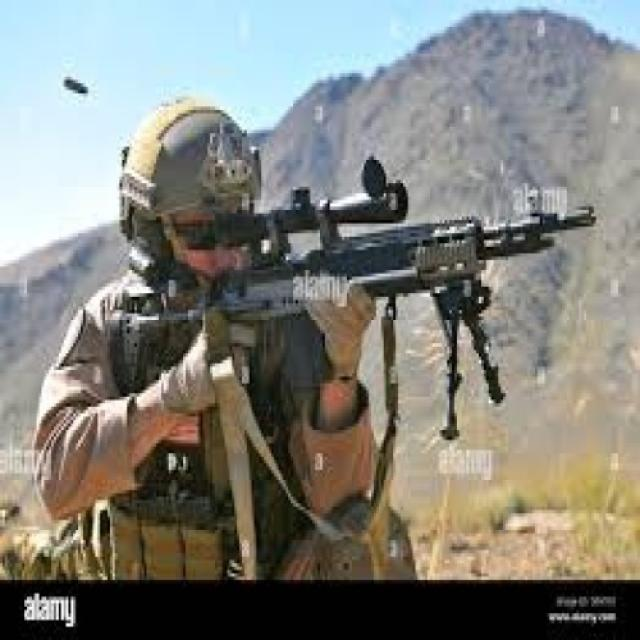Gun: (89, 176, 596, 408)
